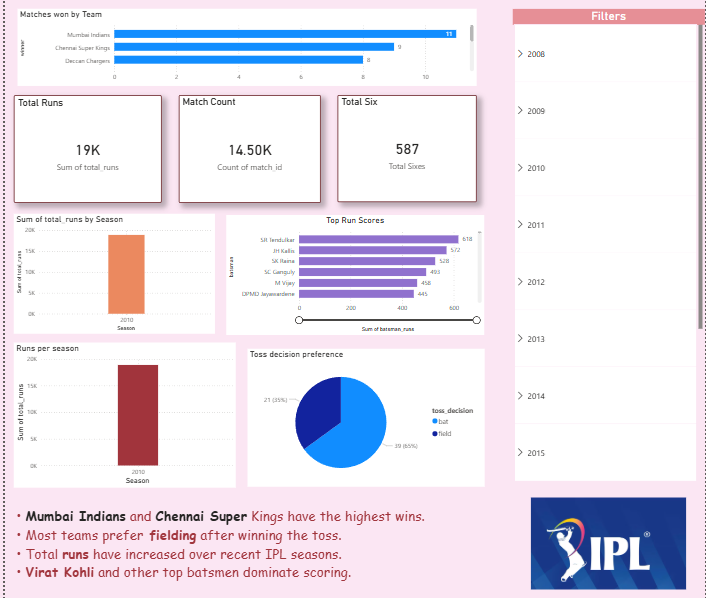

What the dashboard file says about the page in this screenshot:
{"tool":"powerbi","page":{"name":"IPL Analysis ","canvas":[1400,1200],"ordinal":0},"visuals":[{"type":"card","title":"Total Runs","fields":{"Values":["Sum(deliveries.total_runs)"]},"box":[18,190,296,216],"z":0},{"type":"card","title":"Match Count","fields":{"Values":["CountNonNull(deliveries.match_id)"]},"box":[348,190,284,216],"z":1000},{"type":"card","title":"Total Six","fields":{"Values":["deliveries.Total Sixes"]},"box":[664,190,278,214],"z":2000},{"type":"clusteredBarChart","title":"Top Run Scores","fields":{"Category":["deliveries.batsman"],"Y":["Sum(deliveries.batsman_runs)"]},"box":[442,430,516,238],"z":3000},{"type":"clusteredColumnChart","title":"Runs per season","fields":{"Category":["matches.Season"],"Y":["Sum(deliveries.total_runs)"]},"box":[18,684,444,290],"z":4000},{"type":"pieChart","title":"Toss decision preference","fields":{"Category":["matches.toss_decision"],"Y":["CountNonNull(matches.id)"]},"box":[484,698,474,276],"z":5000},{"type":"clusteredBarChart","title":"Matches won by Team","fields":{"Category":["matches.winner"],"Y":["CountNonNull(matches.id)"]},"box":[24,18,918,154],"z":6000},{"type":"listSlicer","title":"Filters ","fields":{"Values":["matches.Season","matches.team1"]},"box":[1015,17.5,385,955],"z":7000},{"type":"clusteredColumnChart","fields":{"Category":["matches.Season"],"Y":["Sum(deliveries.total_runs)"]},"box":[18,428,402,240],"z":8000},{"type":"textbox","box":[17.5,1007.5,875,192.5],"z":9000},{"type":"image","box":[1016,994,384,184],"z":9001}]}

Visuals, with their boxes in screenshot pixels (x1, y1, x2, y2), scaled from the page's 1400x1200 canvas onto the 706x598 screenshot:
"Total Runs" card: l=9, t=95, r=158, b=202
"Match Count" card: l=175, t=95, r=319, b=202
"Total Six" card: l=335, t=95, r=475, b=201
"Top Run Scores" clusteredBarChart: l=223, t=214, r=483, b=333
"Runs per season" clusteredColumnChart: l=9, t=341, r=233, b=485
"Toss decision preference" pieChart: l=244, t=348, r=483, b=485
"Matches won by Team" clusteredBarChart: l=12, t=9, r=475, b=86
"Filters " listSlicer: l=512, t=9, r=705, b=485
clusteredColumnChart - matches.Season x Sum(deliveries.total_runs): l=9, t=213, r=212, b=333
textbox: l=9, t=502, r=450, b=597
image: l=512, t=495, r=705, b=587
